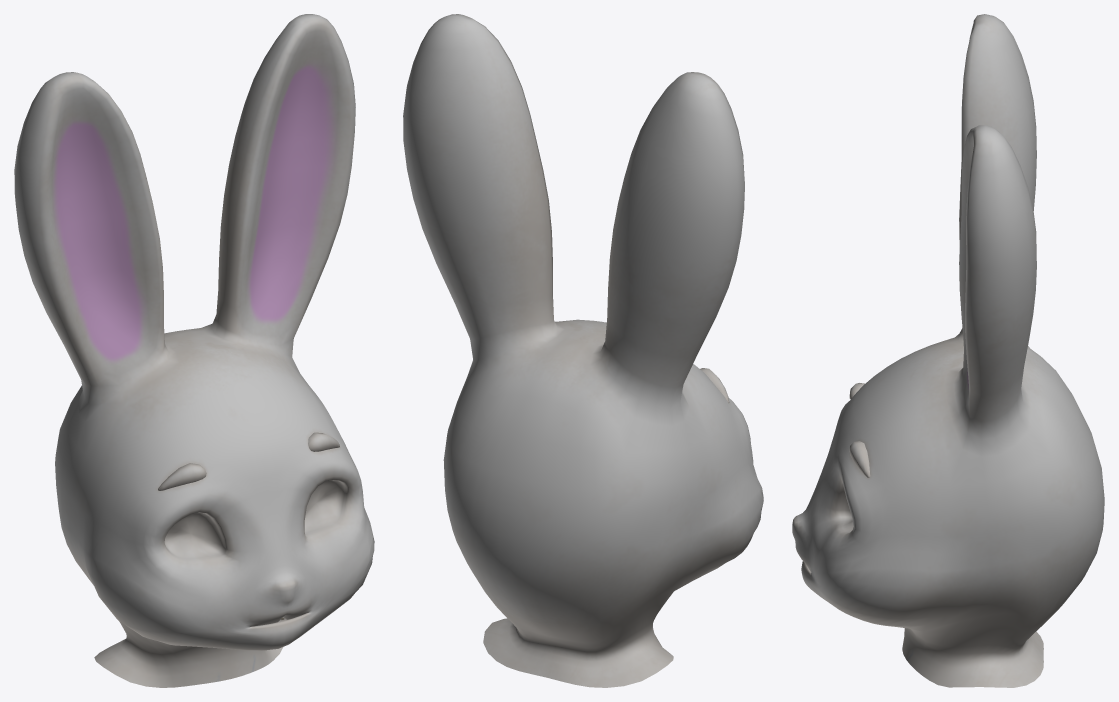
The model's file is LapinHeadShapeKeys.glb.
3 views of the same model, side by side, from view 1: azimuth 30°, elevation 25°; view 2: azimuth 150°, elevation 25°; view 3: azimuth 270°, elevation 25° (orthographic). The views are drawn at different scales.
Visible parts, largest first — view 1: Lapin_head; view 2: Lapin_head; view 3: Lapin_head.
Part boxes in pixels (left/top/right/bottom): Lapin_head: left=14, top=14, right=374, bottom=687; Lapin_head: left=403, top=14, right=763, bottom=687; Lapin_head: left=792, top=14, right=1104, bottom=687.
Size of the model in its own units: 0.4083 by 0.7129 by 0.3466.
1 material, 1 textured.
